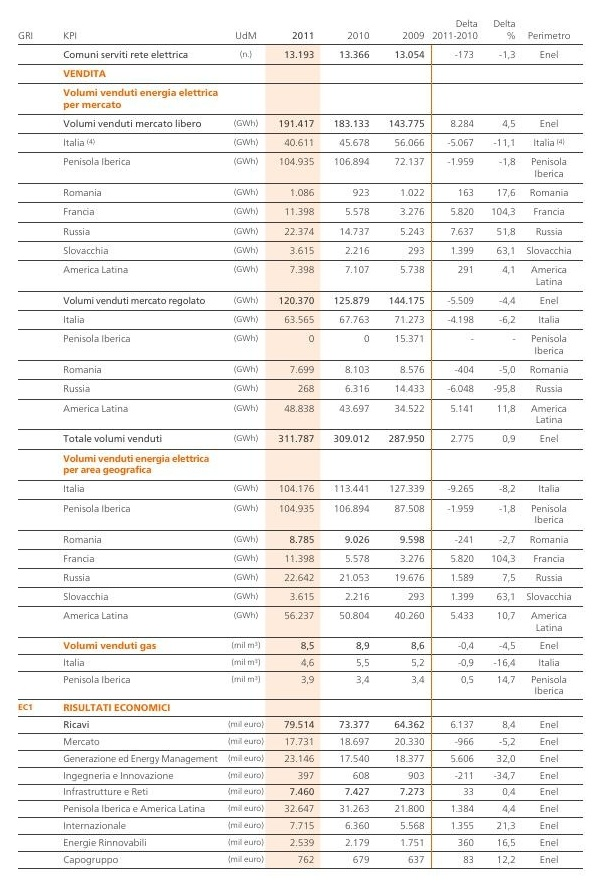table: (0, 0, 601, 888)
